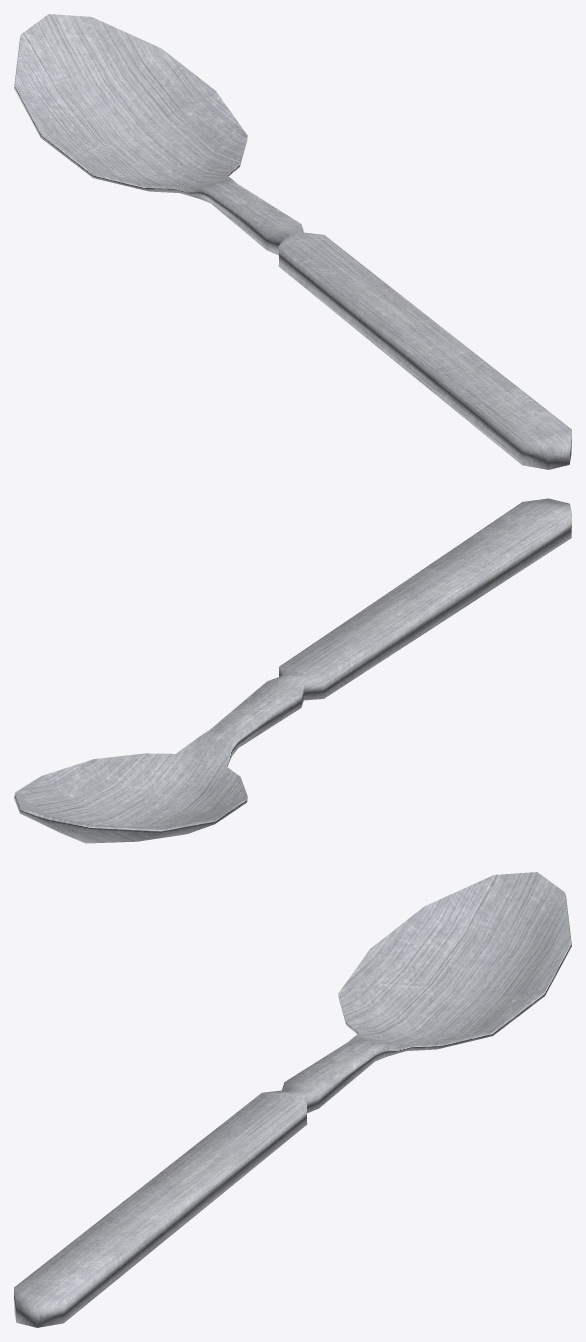
File: SM_SilverwareB.FBX
3 views of the same model, one above another, from view 1: azimuth 30°, elevation 25°; view 2: azimuth 150°, elevation 25°; view 3: azimuth 330°, elevation 25° (orthographic).
Visible parts, largest first — view 1: SM_SilverwareB; view 2: SM_SilverwareB; view 3: SM_SilverwareB.
Part boxes in pixels (x1,y1,x2,y2): SM_SilverwareB: (14, 14, 571, 469); SM_SilverwareB: (14, 498, 571, 843); SM_SilverwareB: (14, 872, 571, 1327).
Size of the model in its own units: 3.57 by 1.65 by 18.19.
